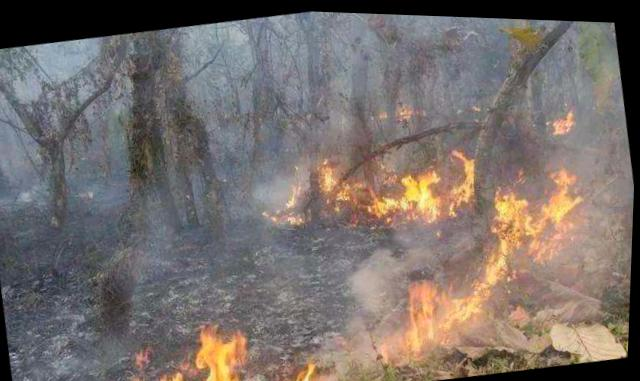fire: (263, 121, 603, 380), (122, 305, 332, 379), (373, 93, 422, 119), (542, 99, 578, 130)
